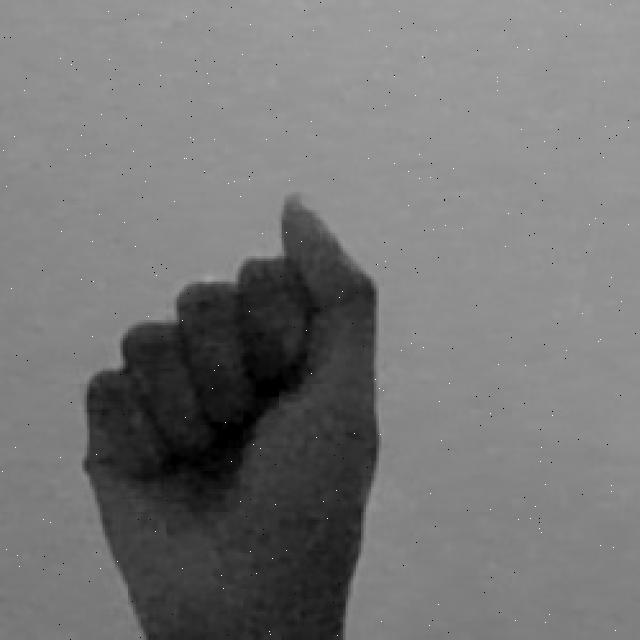A: (76, 184, 387, 640)
